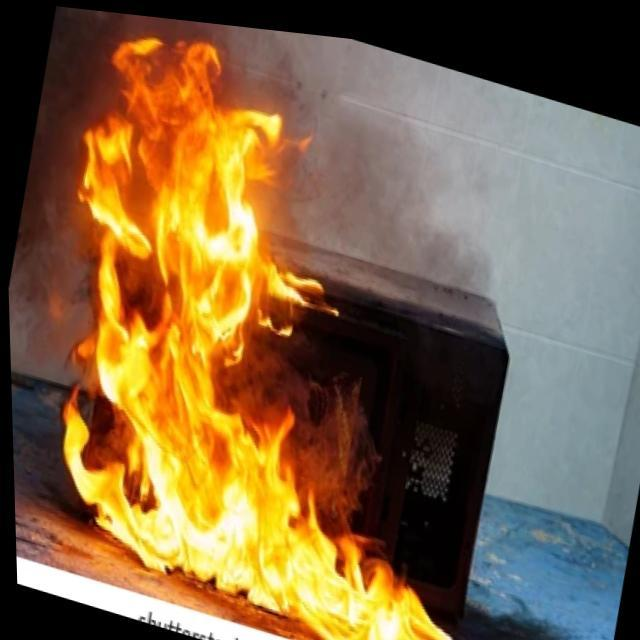fire: (2, 1, 422, 626), (291, 524, 474, 640)
